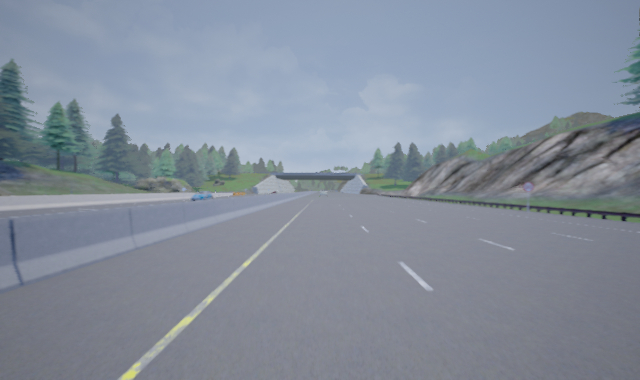traffic_sign: (523, 181, 534, 193)
vehicle: (190, 191, 213, 202)
